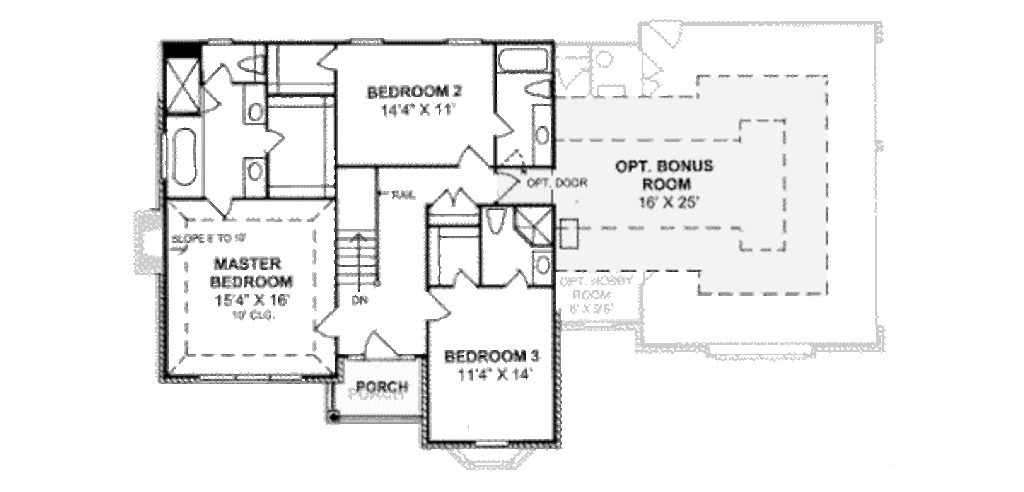door: (356, 326, 400, 360), (425, 183, 475, 211), (494, 165, 522, 210), (422, 288, 452, 328), (198, 63, 242, 89), (456, 141, 489, 172), (310, 305, 337, 340), (448, 268, 483, 292), (200, 88, 229, 114), (314, 46, 340, 74), (500, 267, 527, 291)
large_sink: (517, 71, 556, 107), (481, 204, 514, 243)
small_sink: (237, 84, 270, 129), (531, 104, 554, 165), (241, 154, 273, 195), (531, 254, 551, 287)
stairs: (330, 220, 386, 308)
tub: (164, 115, 212, 201), (495, 46, 561, 72)
window: (191, 368, 307, 385), (345, 34, 390, 54), (473, 433, 512, 454), (438, 34, 486, 49)
